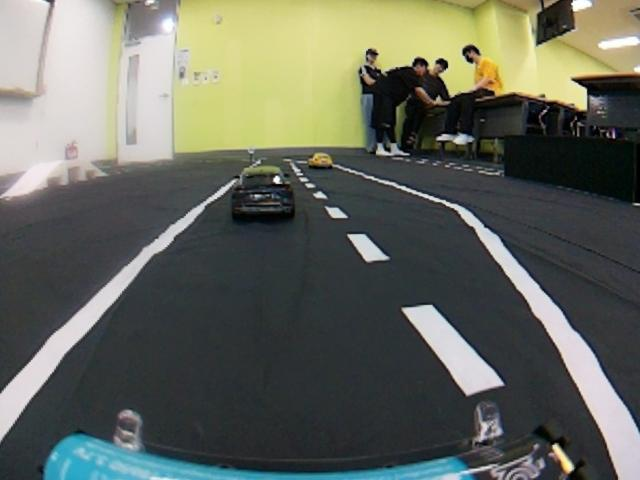car: (228, 166, 298, 225)
straight: (5, 215, 640, 480)
